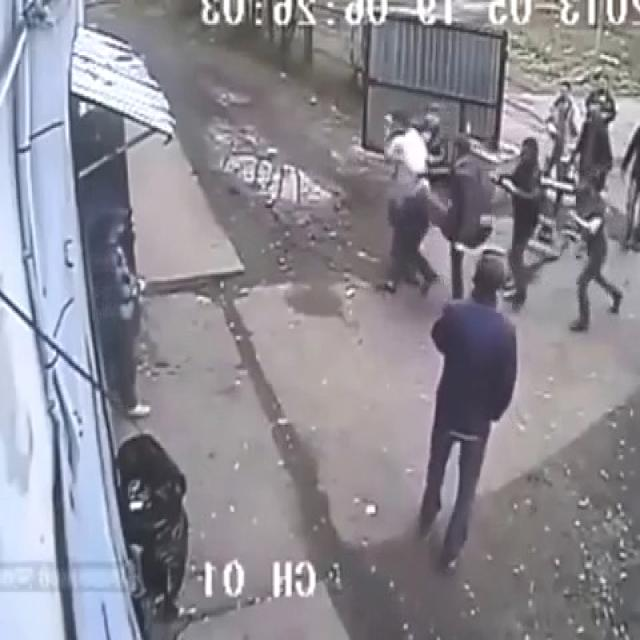fight: (380, 110, 488, 299)
